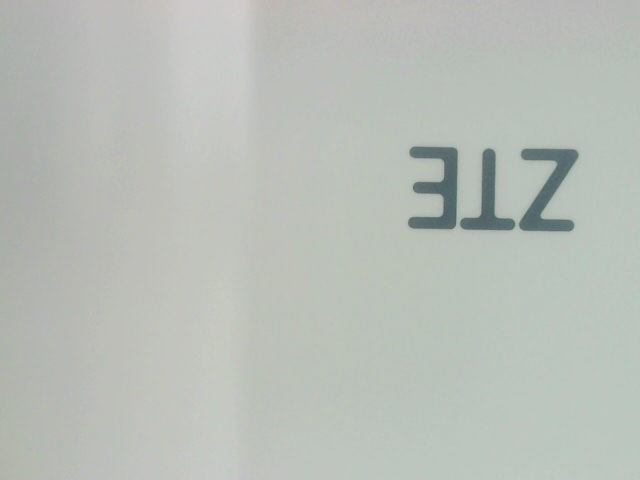AN_ZTE: (398, 137, 579, 232)
